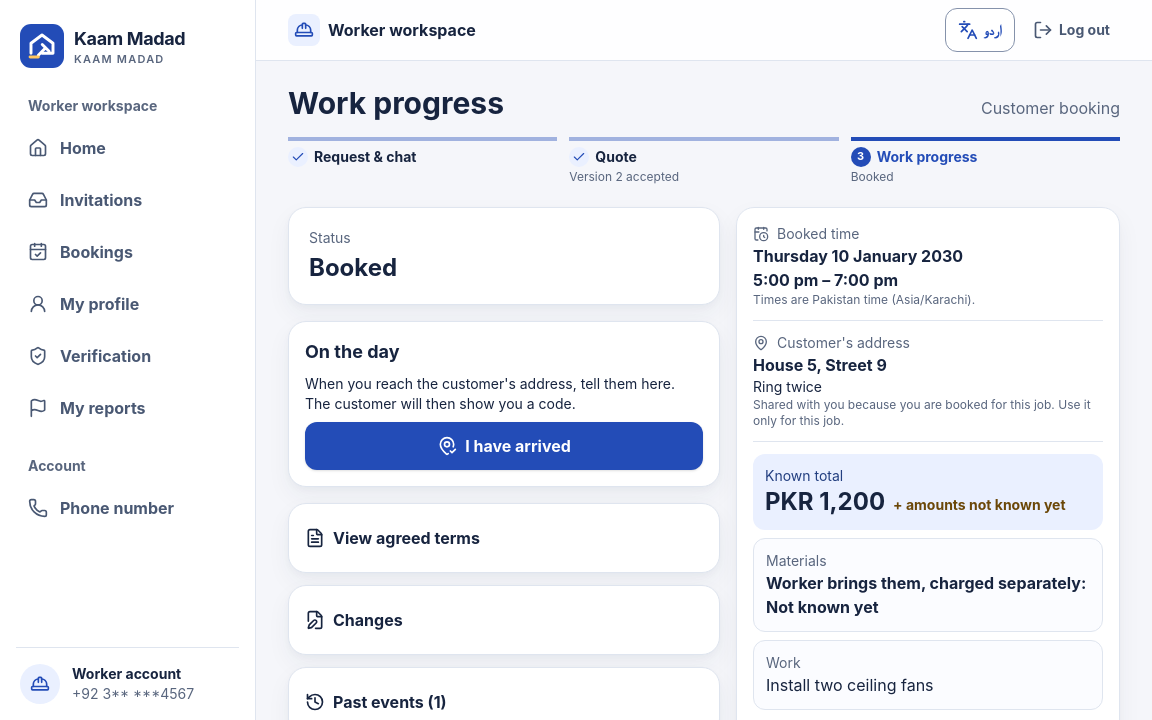
Scenario: booking screen › worker: arrive, then a wrong code shows attempts left, then the right code starts the job
Expected: the heading "Customer's address" is shown, [753,334,910,351]
Expected: the text "House 5, Street 9" is shown, [753,355,887,375]
Click the button "I have arrived".
click(504, 446)  # box [305,422,703,470]
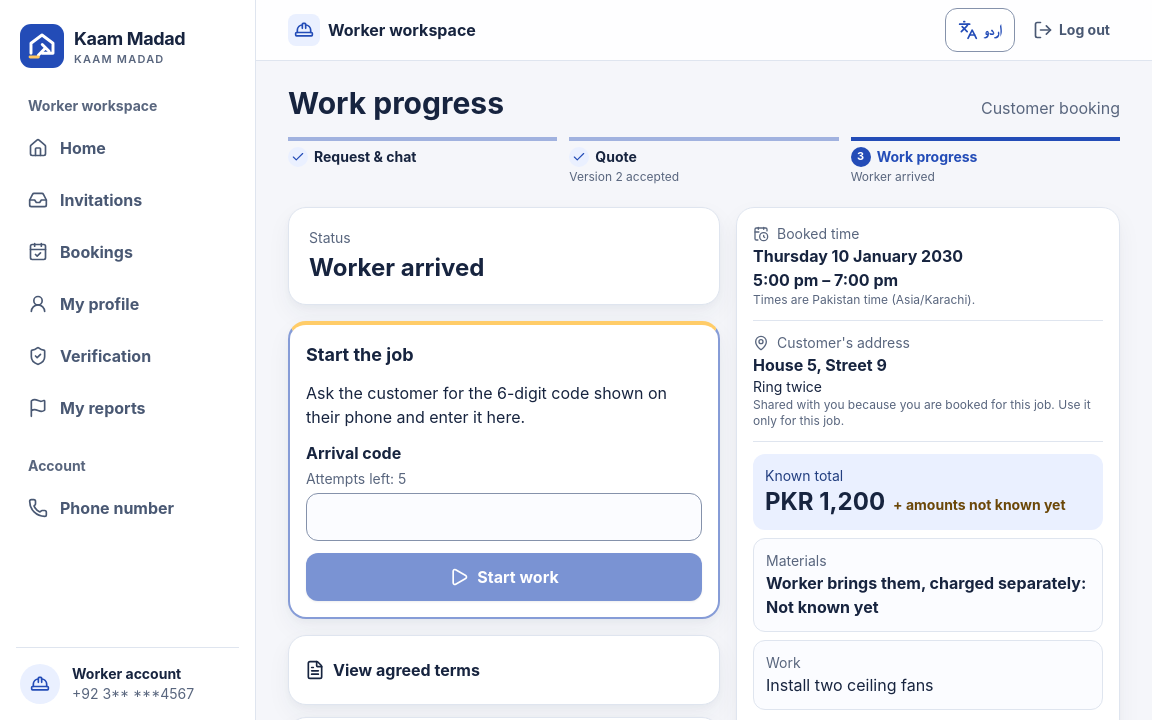
Type "111111" into the field labelled "Arrival code".
click(504, 517); type("111111")  # box [306,493,702,541]
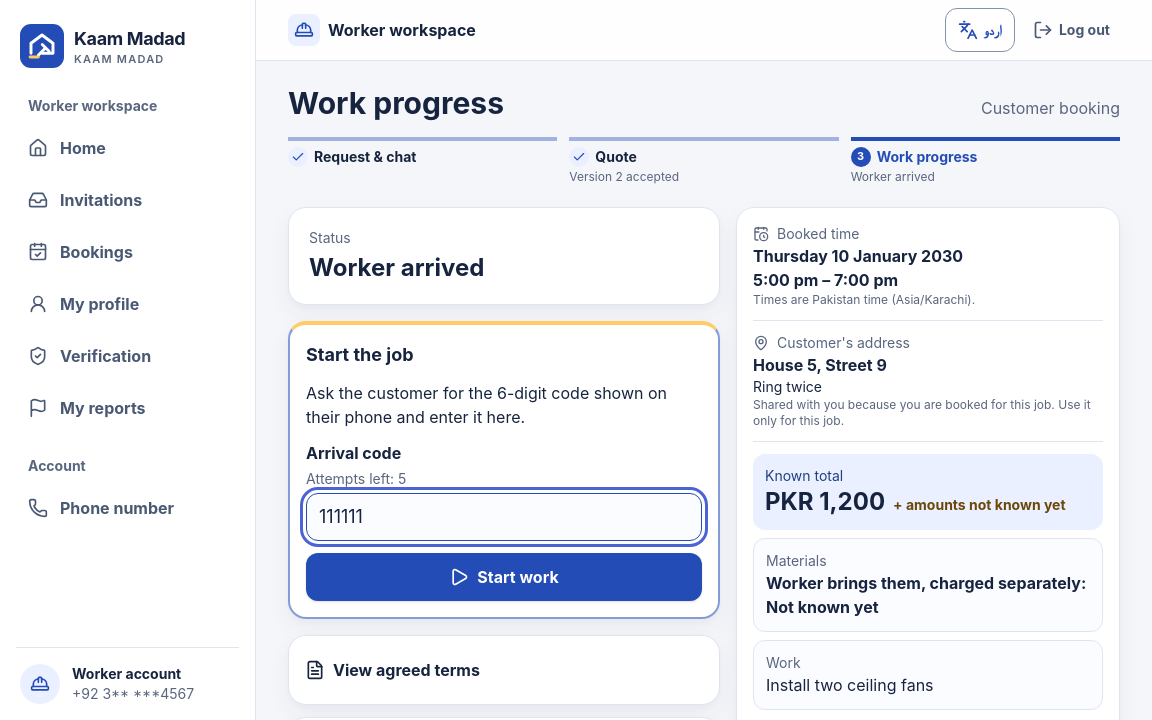
Click the button "Start work".
click(504, 577)  # box [306,553,702,601]
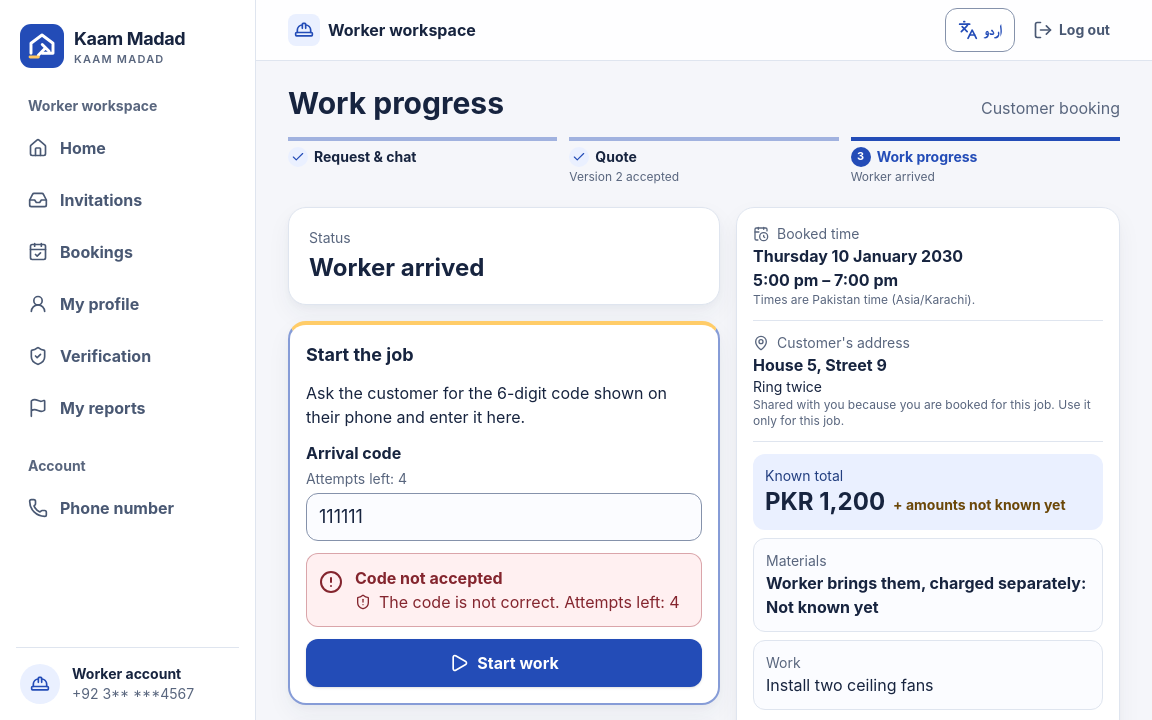
Replace the text in the field labelled "Arrival code" with "482 913" at (504, 517), box [306,493,702,541]
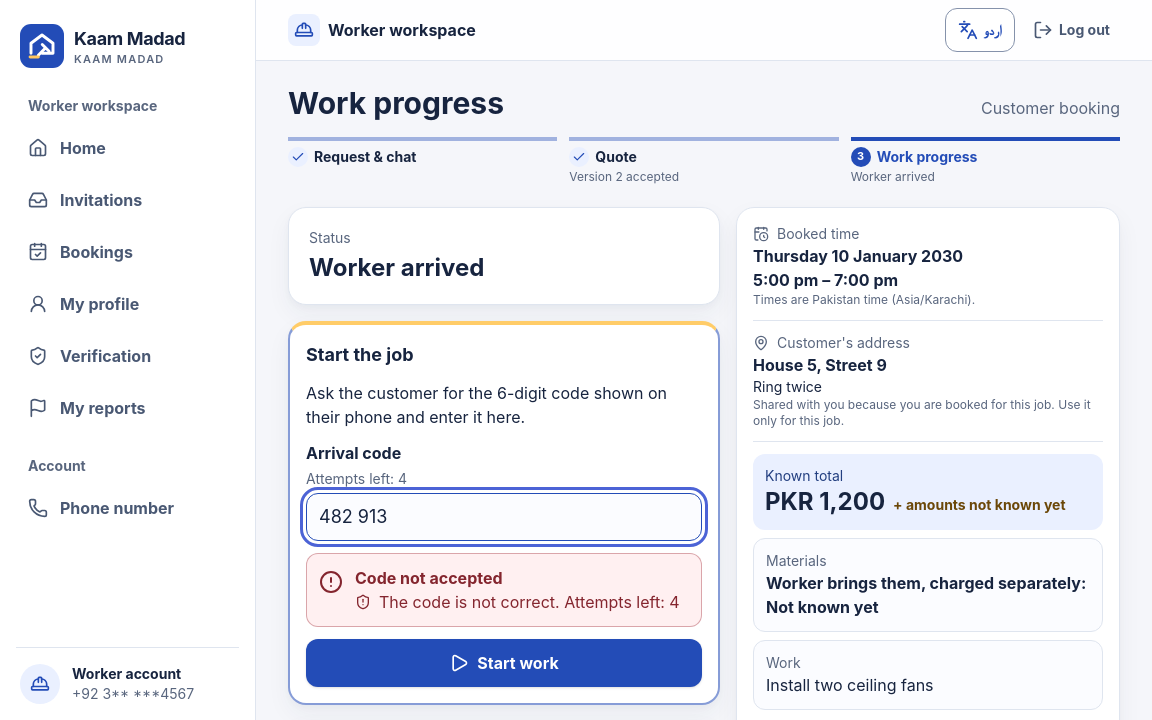
Click the button "Start work".
click(504, 663)  # box [306,639,702,687]
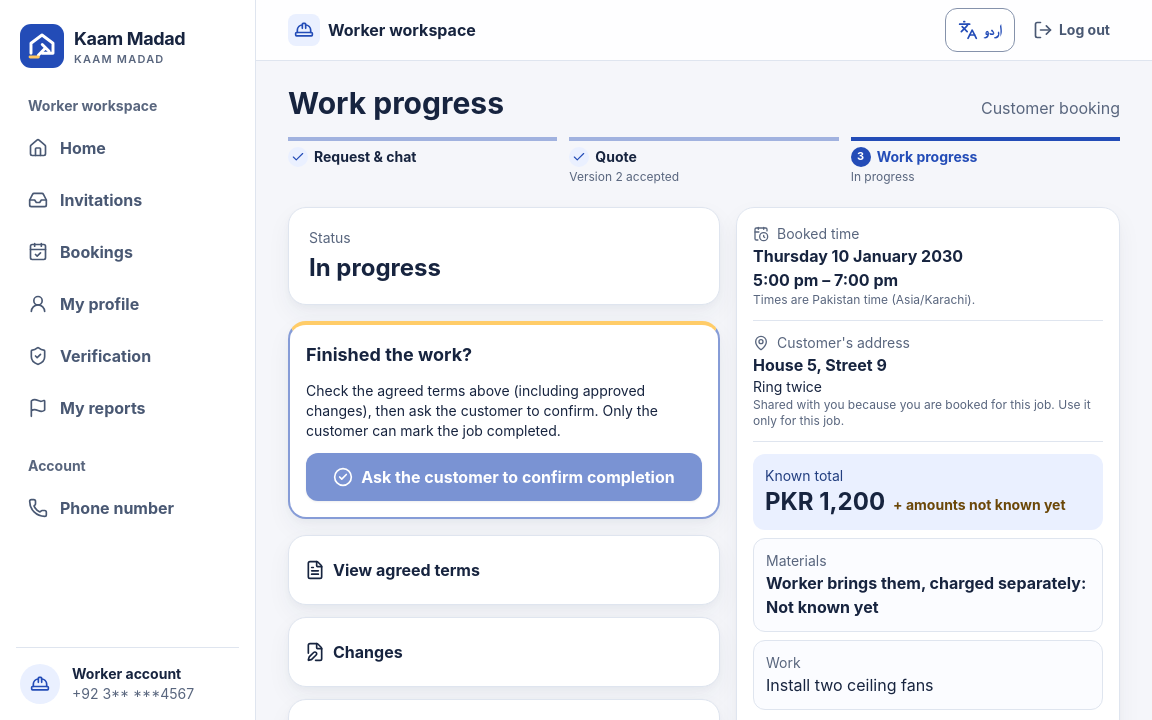
Expected: the heading "In progress" is shown, [309,253,441,282]
Expected: the button "Ask the customer to confirm completion" is shown, [306,453,702,501]
